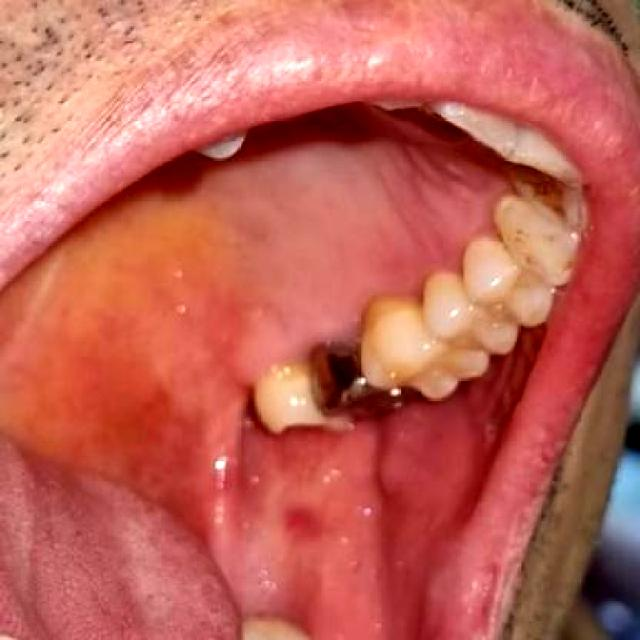Plaque: (232, 178, 514, 376)
